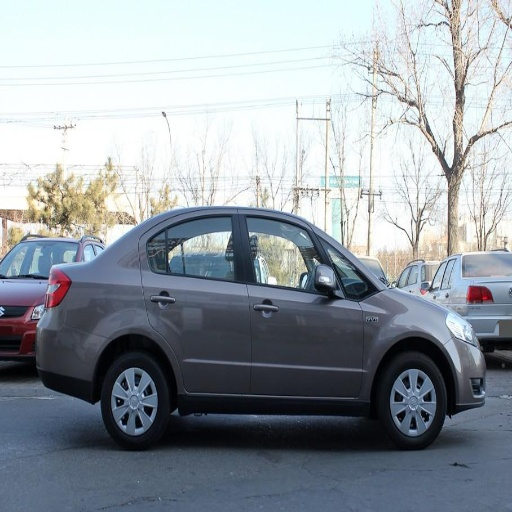back_right_door: (141, 210, 251, 393)
front_right_door: (242, 211, 364, 394)
